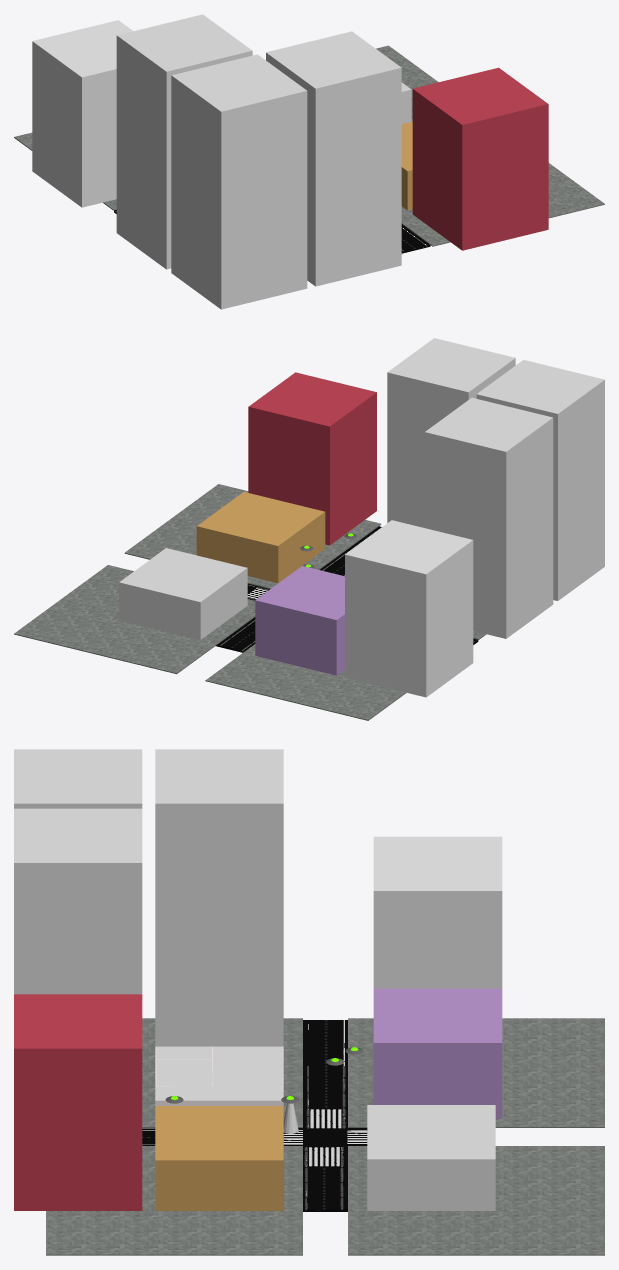
Rendered from City.fbx.
3 views of the same model, one above another, from view 1: azimuth 30°, elevation 25°; view 2: azimuth 150°, elevation 25°; view 3: azimuth 270°, elevation 25° (orthographic). The views are drawn at different scales.
Parts seen in each view (by area): view 1: Cube.010, Cube.002, Cube.013, Cube.011, Cube.012, Cube.007, Cube.004, Cube.006, Cube.014, Cube.005; view 2: Cube.011, Cube.012, Cube.013, Cube.010, Cube.002, Cube.006, Cube.005, Cube.004, Cube.008, Cube.003, Cube.007, Cube.014; view 3: Cube.011, Cube.013, Cube.002, Cube.006, Cube.012, Cube.008, Cube.003, Cube.007, Cube.005, Cube.004, Cube.014, Cube.010 (+3 smaller).
Part boxes in pixels (box(x1,y1,x2,y2)): Cube.010: box(171, 54, 307, 309); Cube.002: box(266, 31, 401, 286); Cube.013: box(412, 67, 548, 250); Cube.011: box(116, 14, 252, 269); Cube.012: box(32, 20, 133, 207); Cube.007: box(401, 163, 604, 246); Cube.004: box(401, 121, 412, 210); Cube.006: box(376, 45, 438, 121); Cube.014: box(114, 210, 430, 253); Cube.005: box(401, 82, 411, 123); Cube.011: box(424, 397, 553, 638); Cube.012: box(345, 520, 473, 697); Cube.013: box(248, 372, 376, 545); Cube.010: box(476, 360, 604, 600); Cube.002: box(387, 338, 515, 527); Cube.006: box(14, 565, 255, 674); Cube.005: box(119, 548, 247, 639); Cube.004: box(196, 492, 325, 583); Cube.008: box(255, 566, 344, 675); Cube.003: box(205, 644, 406, 720); Cube.007: box(124, 484, 381, 588); Cube.014: box(216, 526, 478, 652); Cube.011: box(155, 749, 283, 1046); Cube.013: box(14, 994, 142, 1210); Cube.002: box(14, 808, 142, 994); Cube.006: box(348, 1146, 604, 1255); Cube.012: box(373, 836, 502, 988); Cube.008: box(373, 988, 502, 1118); Cube.003: box(348, 1018, 604, 1127); Cube.007: box(46, 1146, 302, 1255); Cube.005: box(367, 1105, 495, 1210); Cube.004: box(155, 1106, 283, 1210); Cube.014: box(142, 1020, 367, 1211); Cube.010: box(14, 749, 142, 808).
Size of the model in its own units: 9200 by 9200 by 4450.
Materials: 146 (14 with a texture image).
